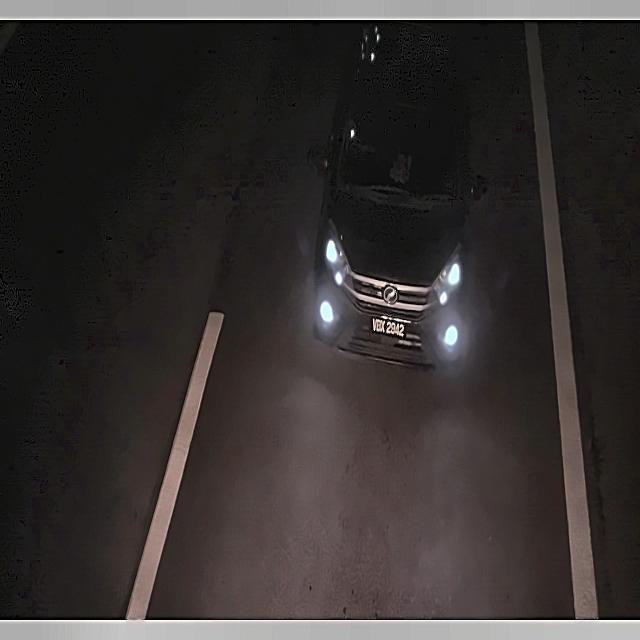car: (366, 309, 410, 341)
